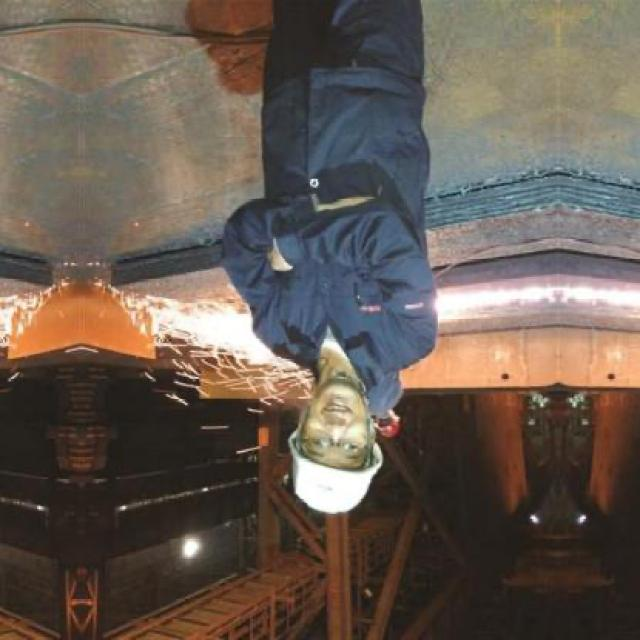con casco: (265, 362, 439, 513)
